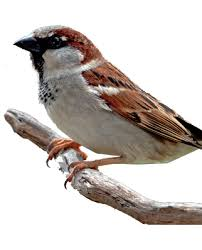hsparrow: (9, 22, 202, 185)
